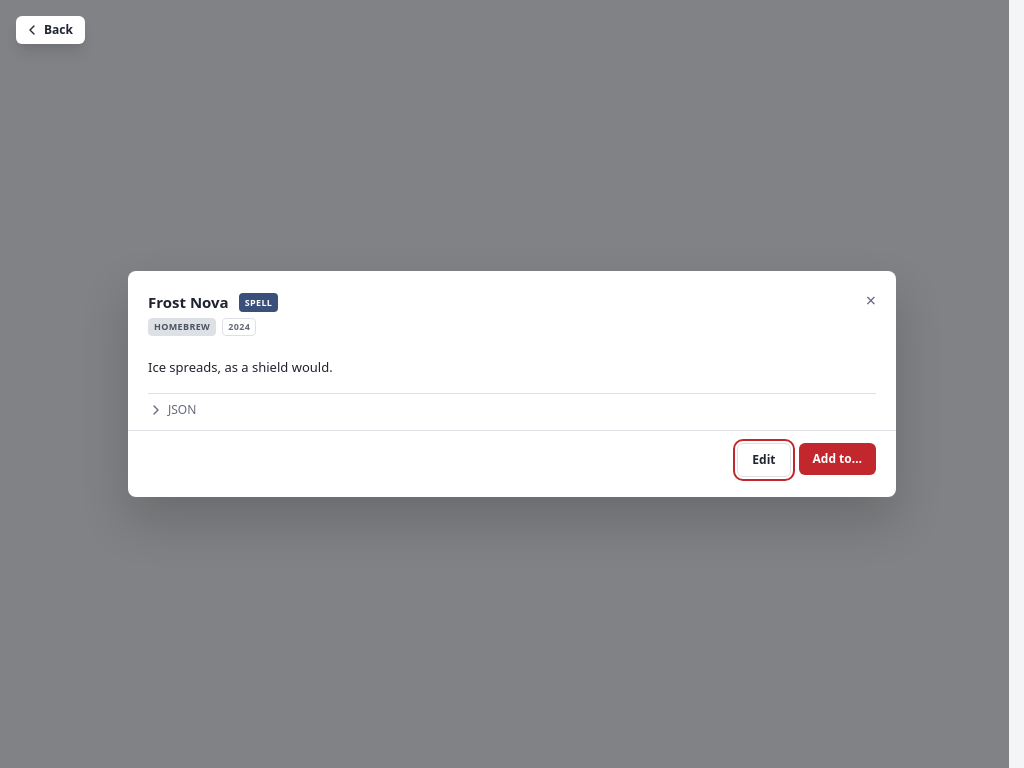
Test case: EditHomebrewButton › resolves the row's own references in the preview, not by the sheet's map
Click the button "Edit" at (764, 460), box 737,443 -> 790,477
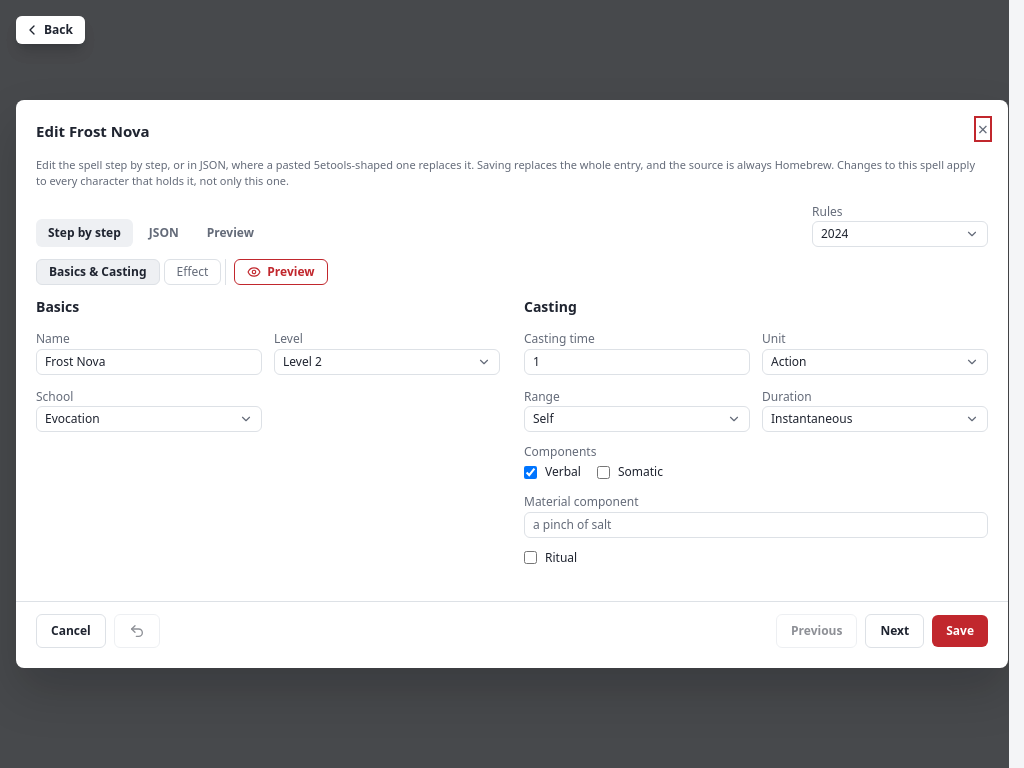
expect the 1st dialog is shown: met
Click the tab "Preview" at (230, 233), box 195,219 -> 266,247
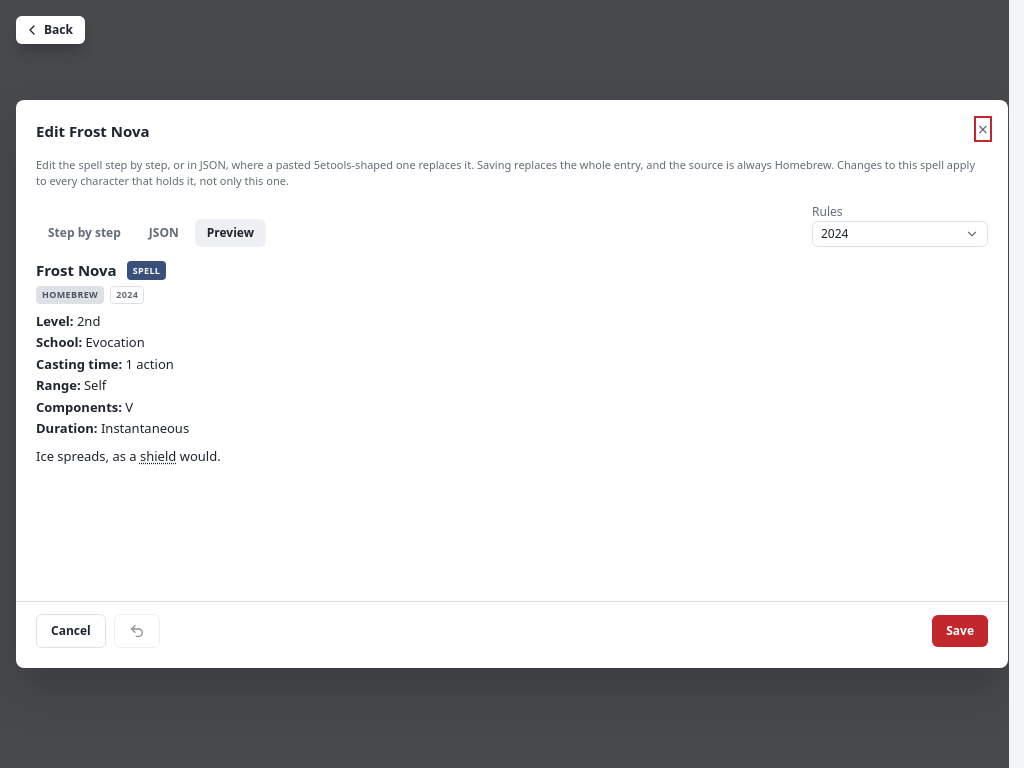
expect the button "shield" is shown: met, box 140,446 -> 176,466
